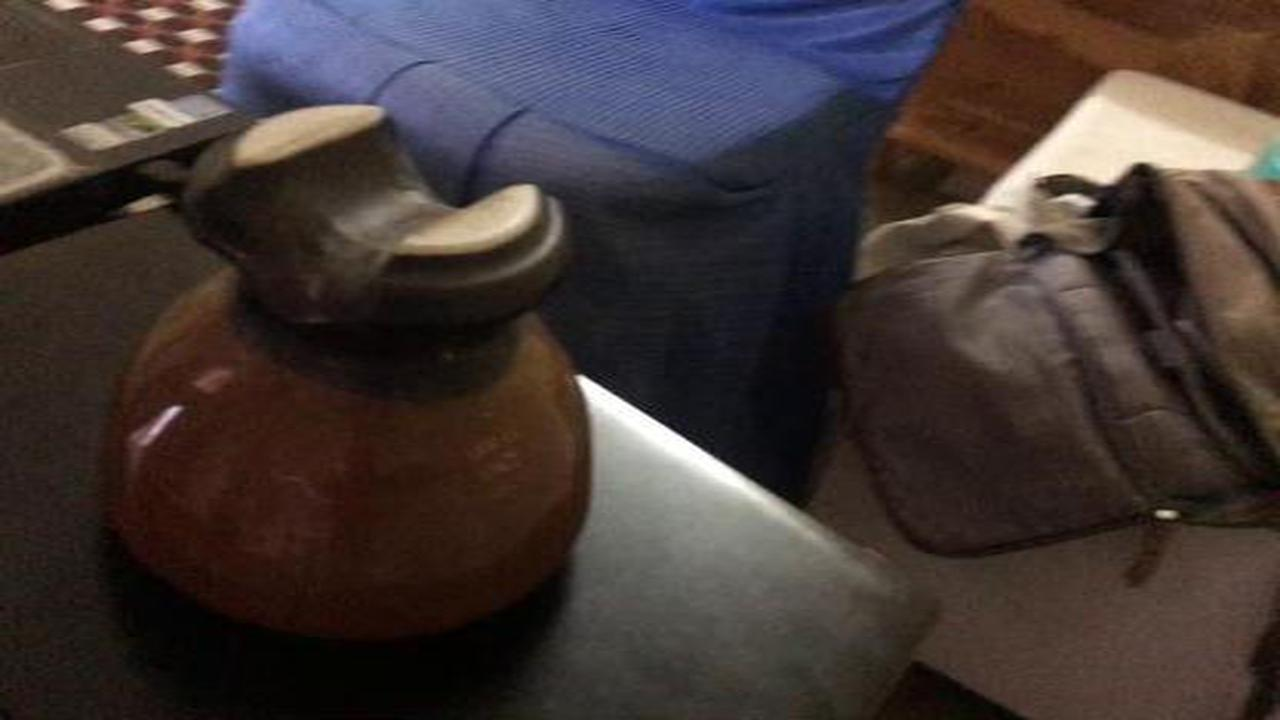insulator_pin: (84, 94, 622, 658)
